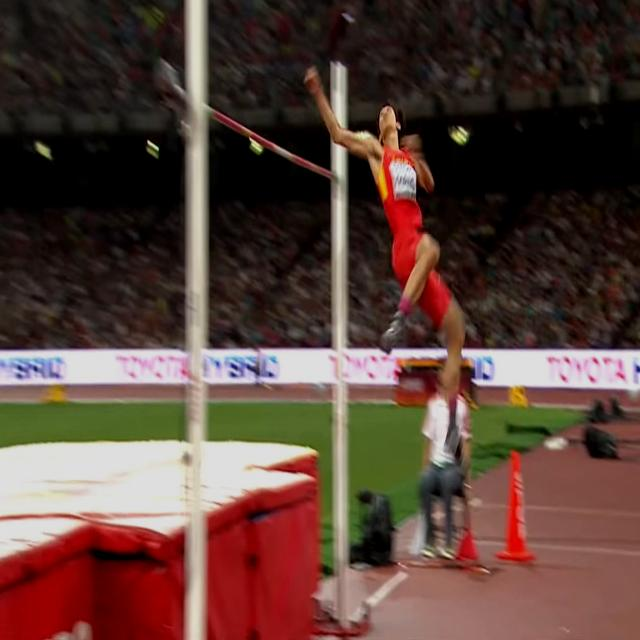jump: (304, 64, 464, 476)
